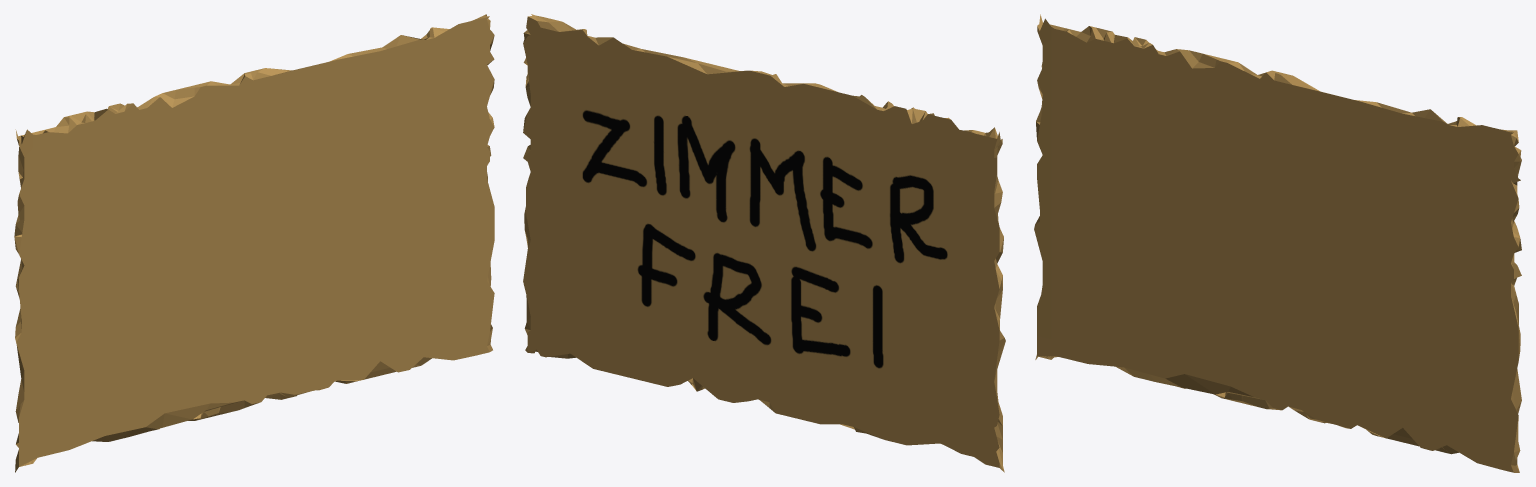
Rendered from zimmerfrei.fbx.
The picture shows the model from 3 angles, left to right: view 1: azimuth 30°, elevation 25°; view 2: azimuth 150°, elevation 25°; view 3: azimuth 330°, elevation 25°; orthographic projection.
Visible parts, largest first — view 1: Zimmerfrei; view 2: Zimmerfrei; view 3: Zimmerfrei.
Boxes of the visible parts, x1,y1,x2,y2 form: Zimmerfrei: (14, 14, 494, 472); Zimmerfrei: (523, 14, 1005, 472); Zimmerfrei: (1034, 14, 1521, 472).
Bounding box in the file's own units: 1133 × 773 × 13.93.
